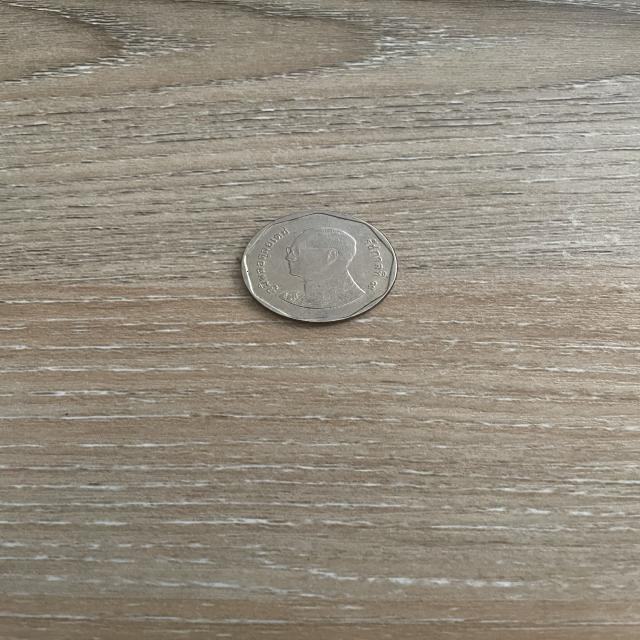5 Bath: (230, 206, 413, 332)
